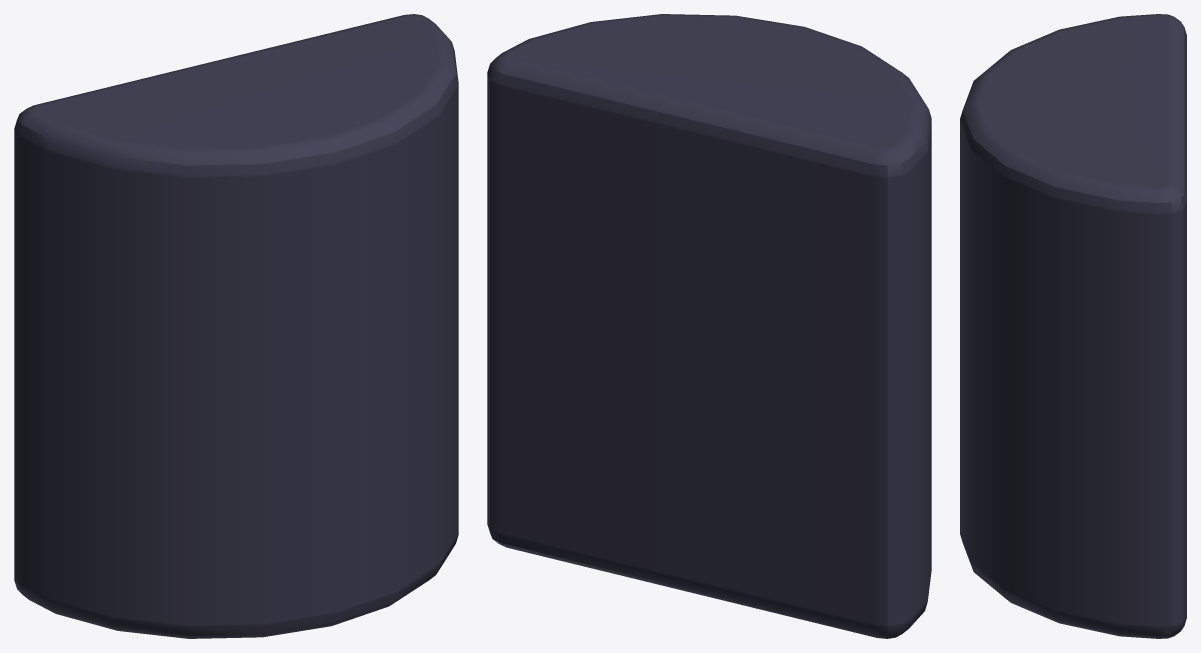
Rendered from separatorRounded.fbx.
3 renders of one model, left to right at view 1: azimuth 30°, elevation 25°; view 2: azimuth 150°, elevation 25°; view 3: azimuth 270°, elevation 25°, orthographic. The views are drawn at different scales.
Parts seen in each view (by area): view 1: Separator_Rounded; view 2: Separator_Rounded; view 3: Separator_Rounded.
Boxes of the visible parts, x1,y1,x2,y2 form: Separator_Rounded: [14, 14, 458, 638]; Separator_Rounded: [487, 14, 931, 638]; Separator_Rounded: [960, 14, 1186, 638].
Size of the model in its own units: 0.8948 by 0.9985 by 0.4565.
